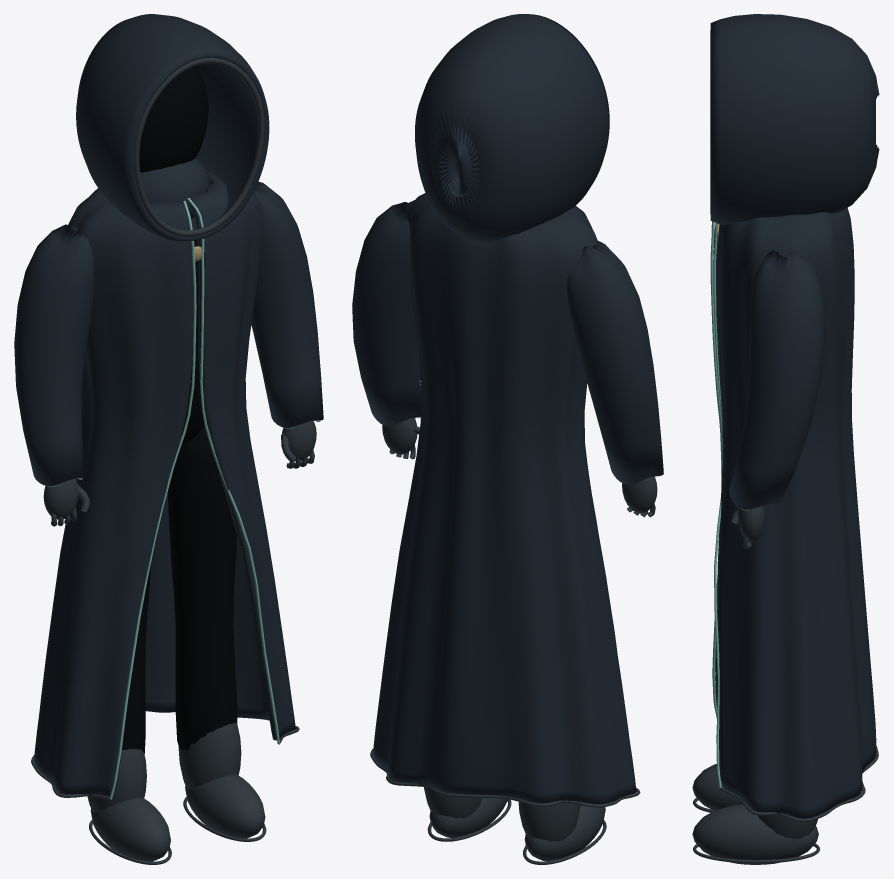
Rendered from cdf-traveller66.glb.
3 views of the same model, side by side, from view 1: azimuth 30°, elevation 25°; view 2: azimuth 150°, elevation 25°; view 3: azimuth 270°, elevation 25° (orthographic).
Parts seen in each view (by area): view 1: CDF_Traveller66_Runtime; view 2: CDF_Traveller66_Runtime; view 3: CDF_Traveller66_Runtime.
Boxes of the visible parts, <box> form: CDF_Traveller66_Runtime: <box>14,14,323,864</box>; CDF_Traveller66_Runtime: <box>352,14,663,864</box>; CDF_Traveller66_Runtime: <box>692,14,879,864</box>.
Size of the model in its own units: 0.7892 by 2.08 by 0.4319.
